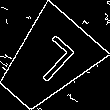L_SW: (18, 33, 76, 91)
